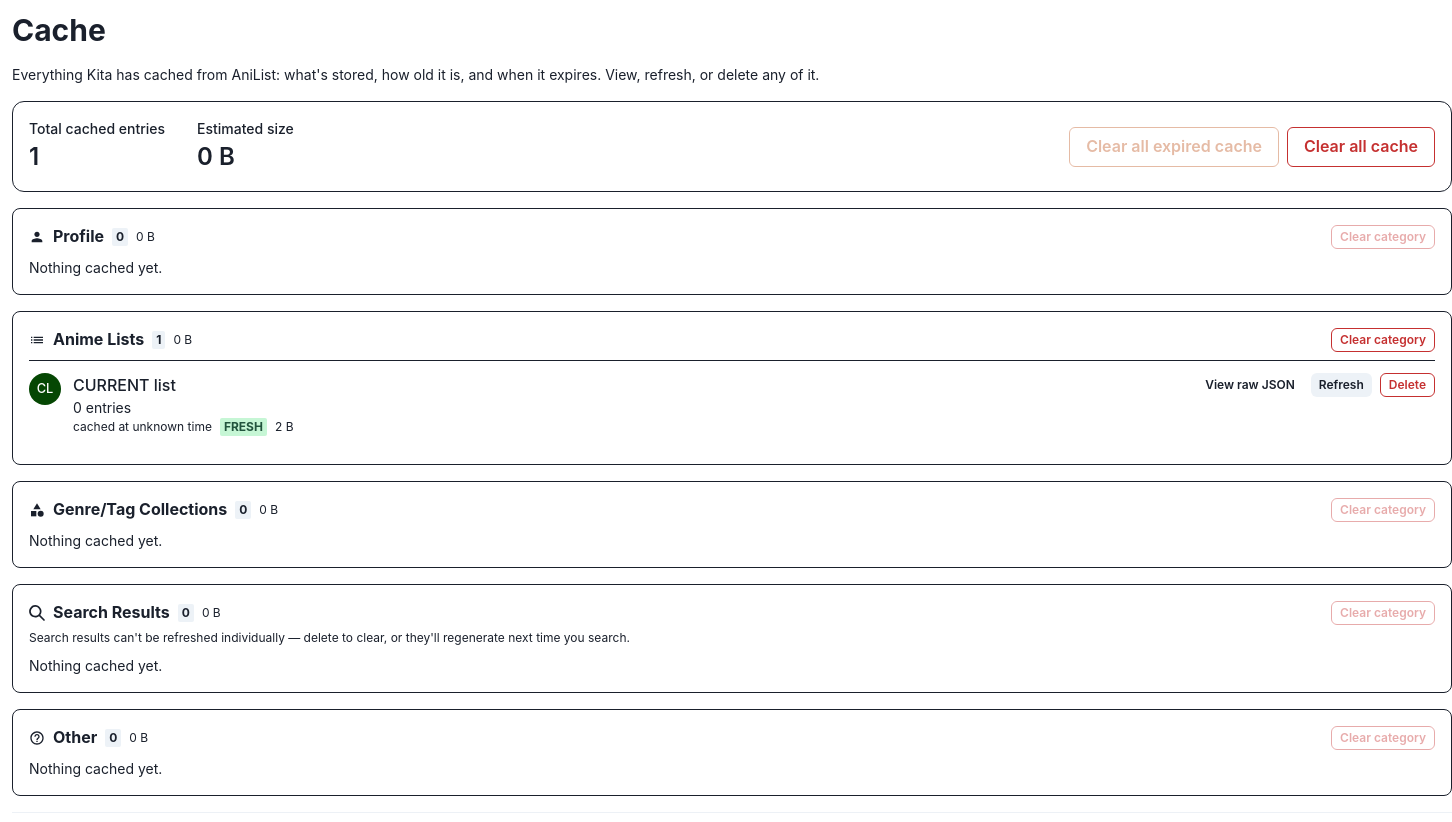
Test: CacheTab › refreshing a list entry queries the client with network-only and shows a success toast
Step 1. Click the button with test id "cache-entry-refresh-list:42:CURRENT" → (1341,385), box [1311, 373, 1372, 397]
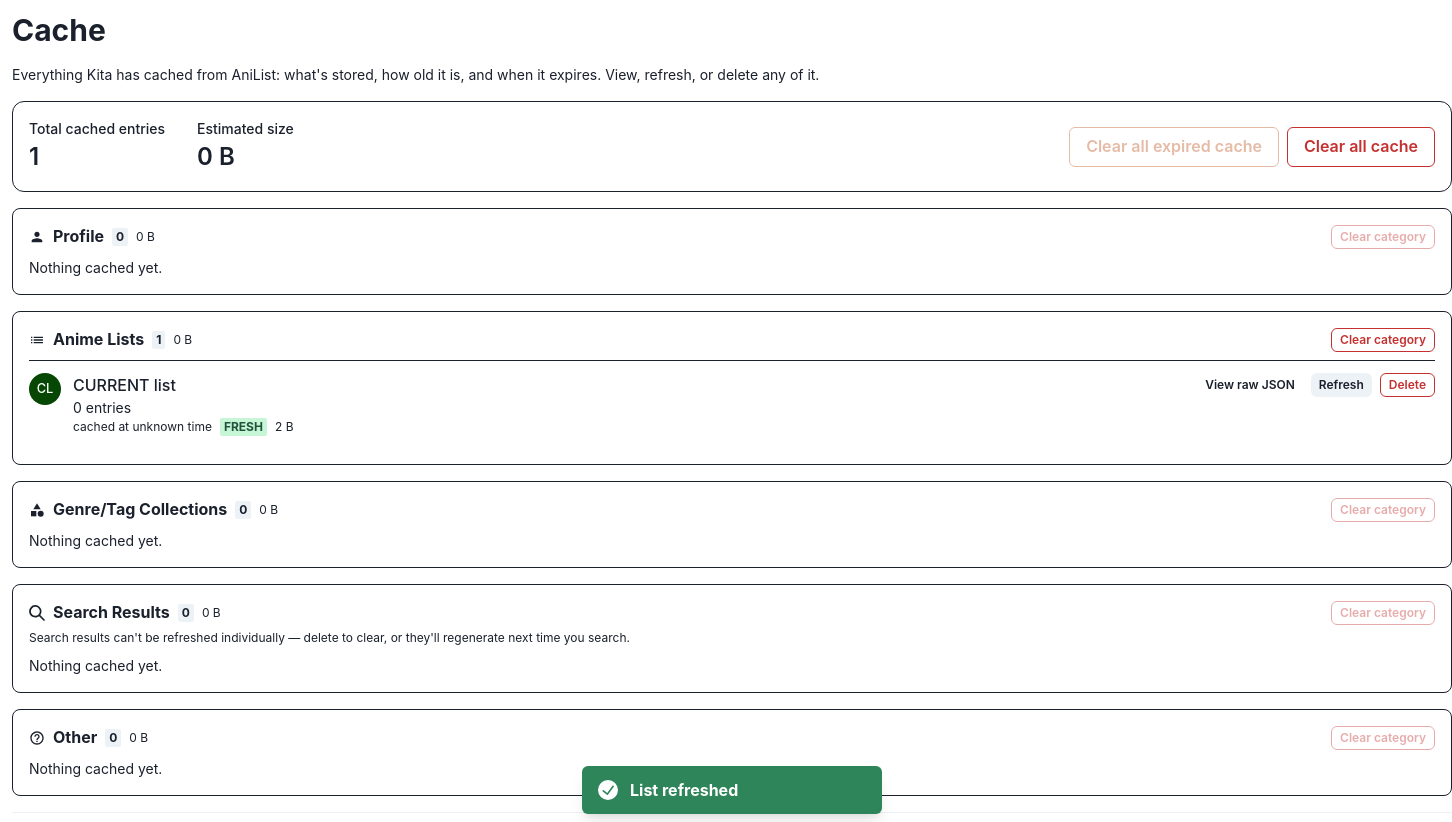
Check: the text "List refreshed" is shown, box [630, 780, 738, 800]
